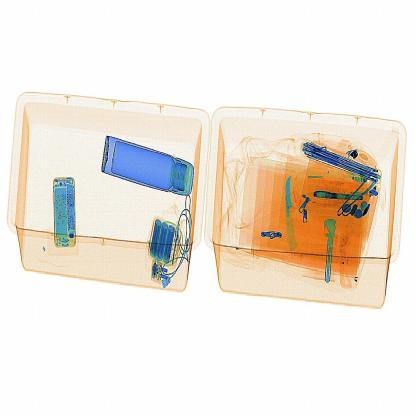wrench: (280, 175, 299, 251)
